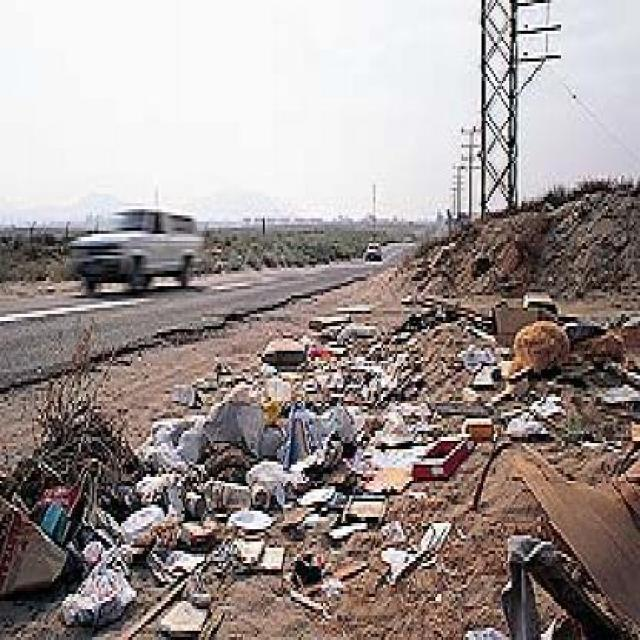garbage: (74, 366, 368, 618), (300, 302, 452, 533), (471, 375, 571, 442)
